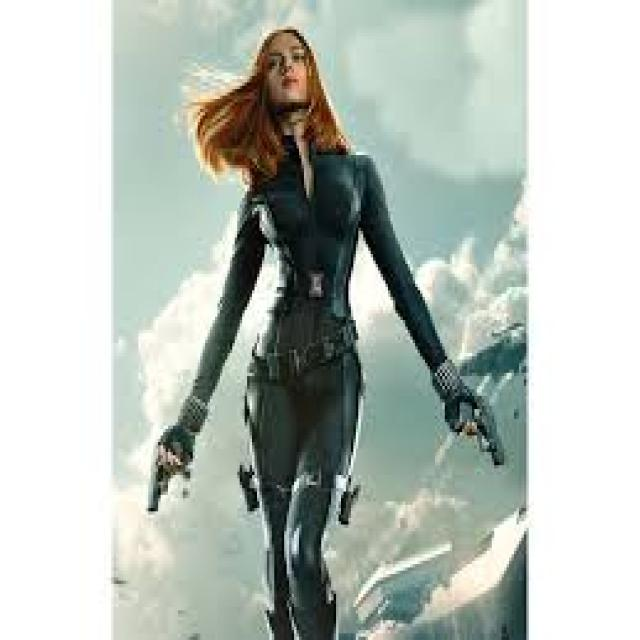gun: (440, 337, 515, 483), (139, 402, 213, 528)
